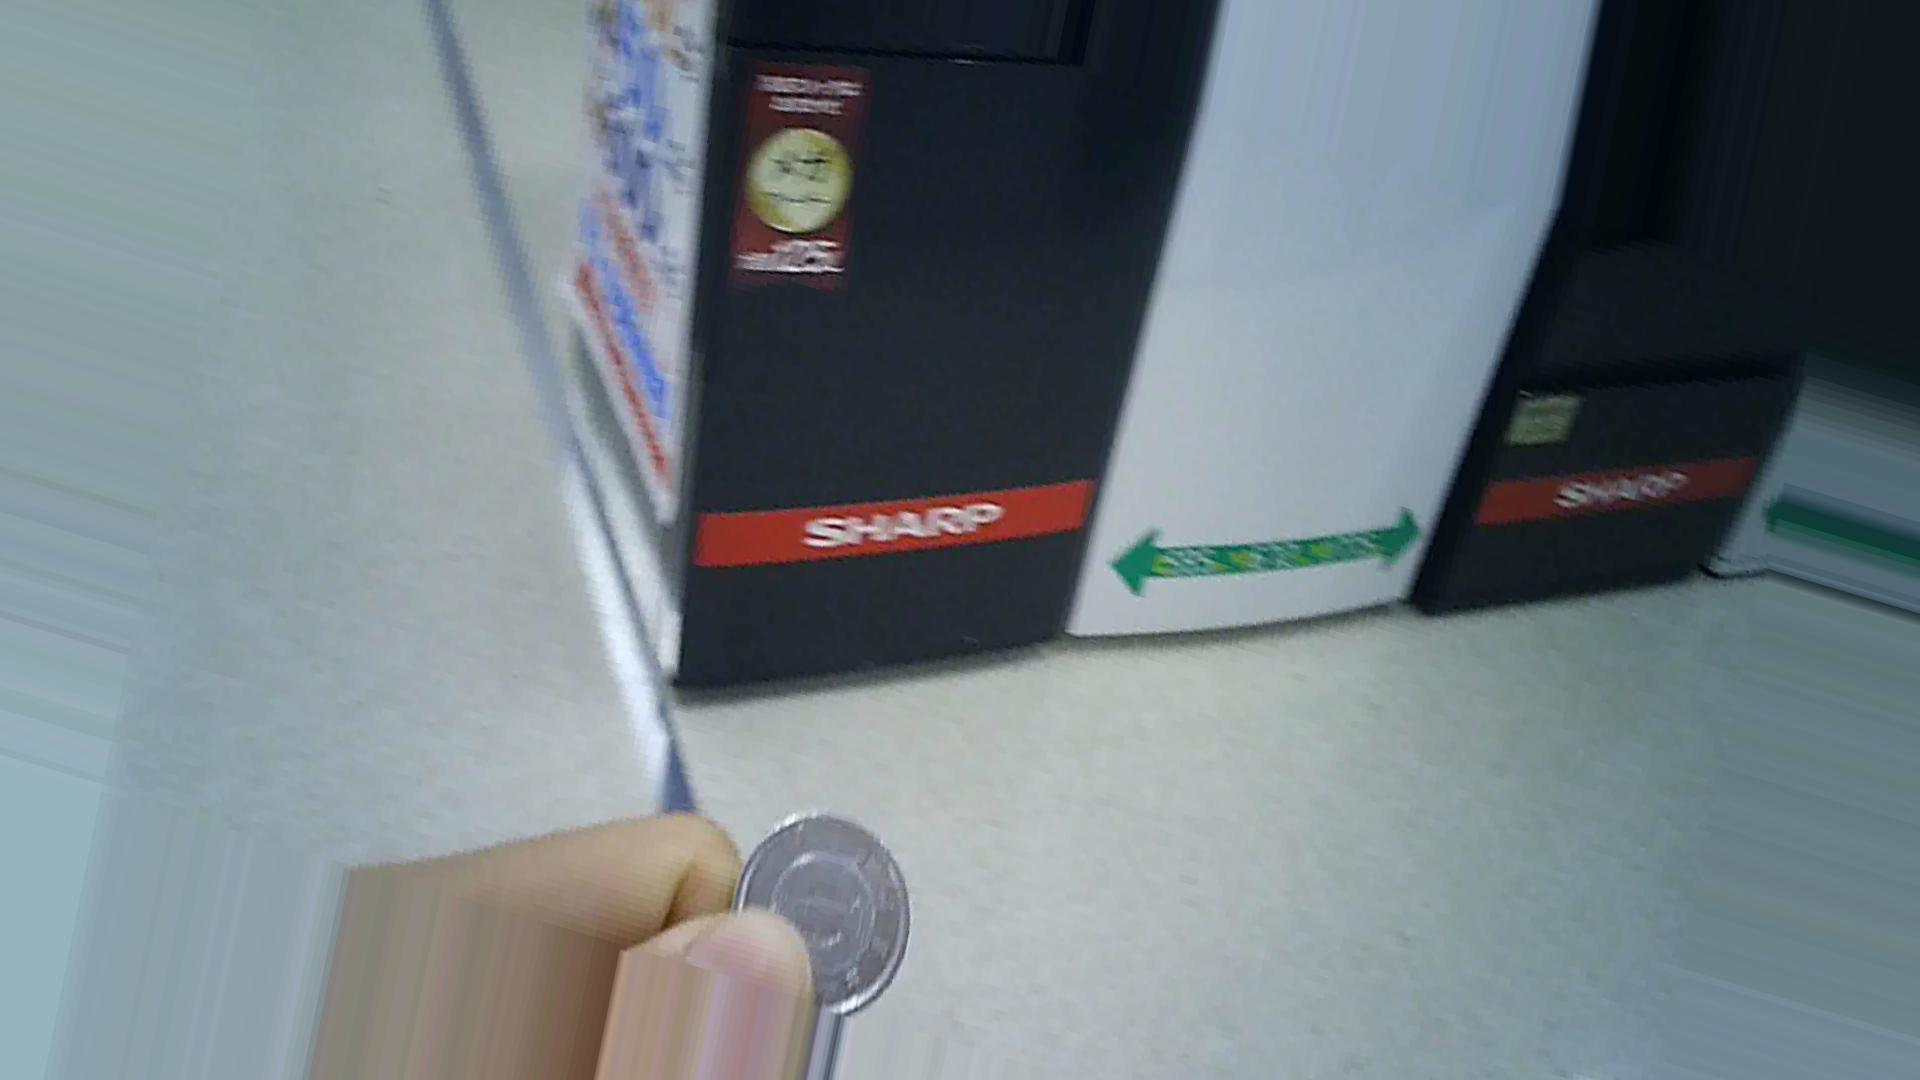1 Yen: (725, 808, 906, 1011)
